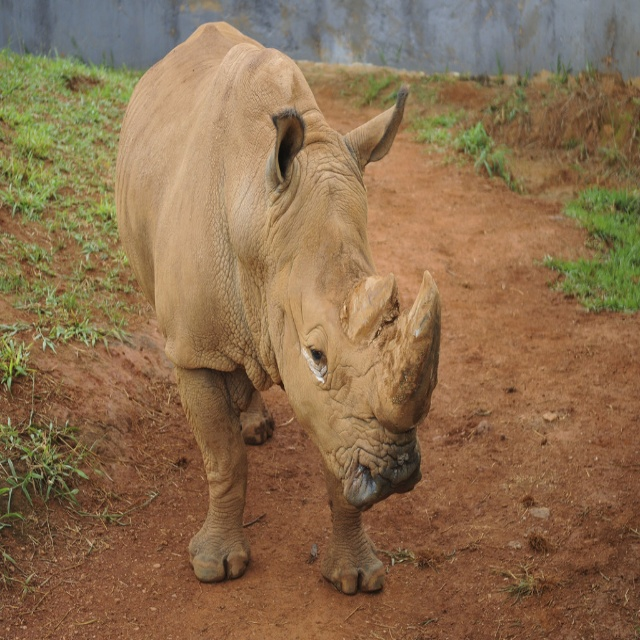Rhinoceros: (112, 13, 446, 611)
